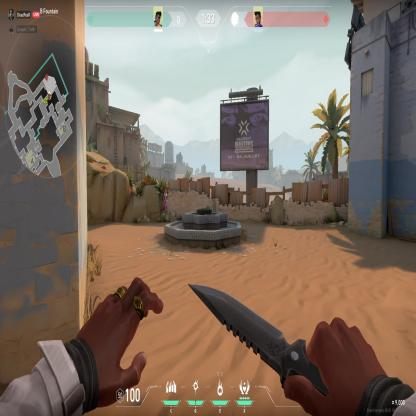enemy: (162, 188, 170, 215)
